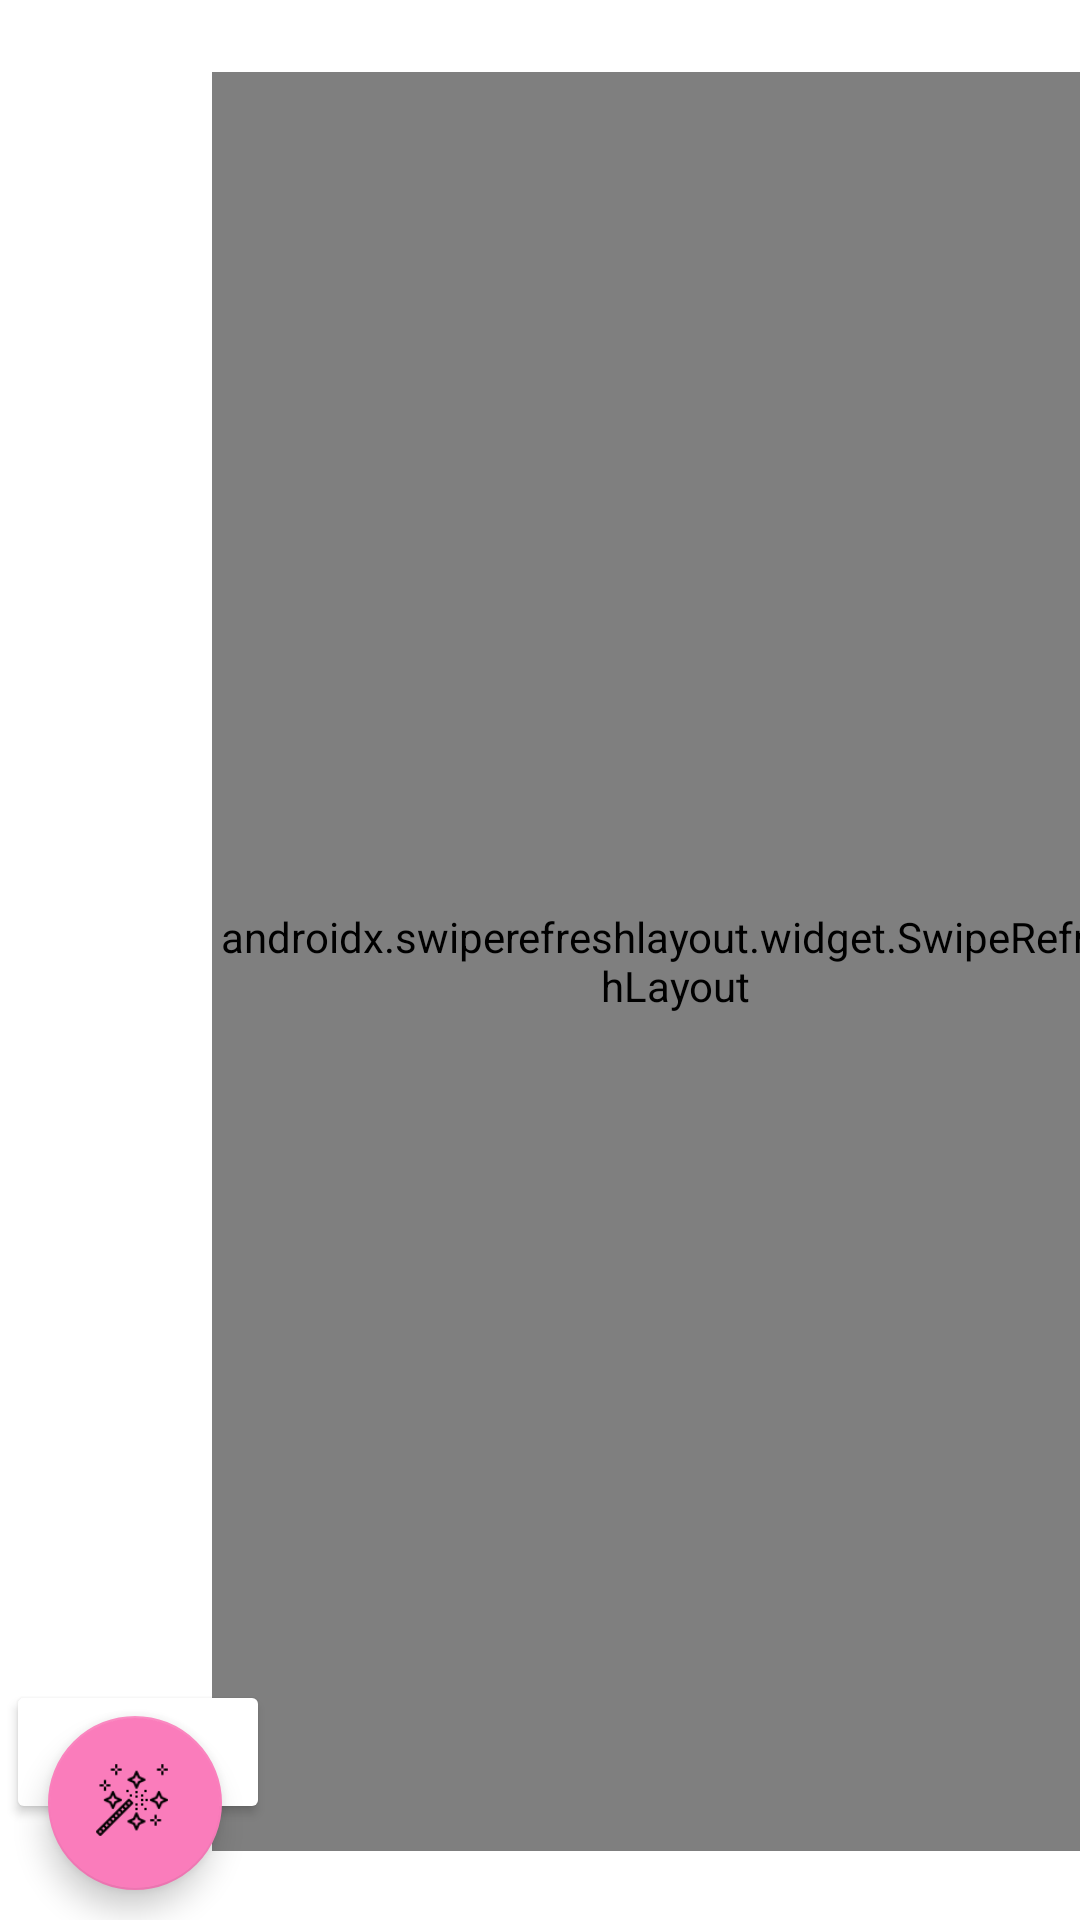

Locate icon controls on the screen. Image size 1080px x 1920px, boxes as (x1, y1, x2, y2).
sparkle: (48, 1716, 222, 1890)
